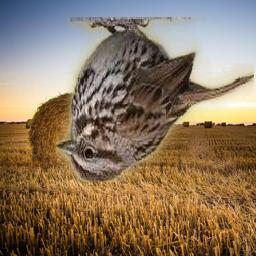Sparrow: (56, 18, 254, 183)
